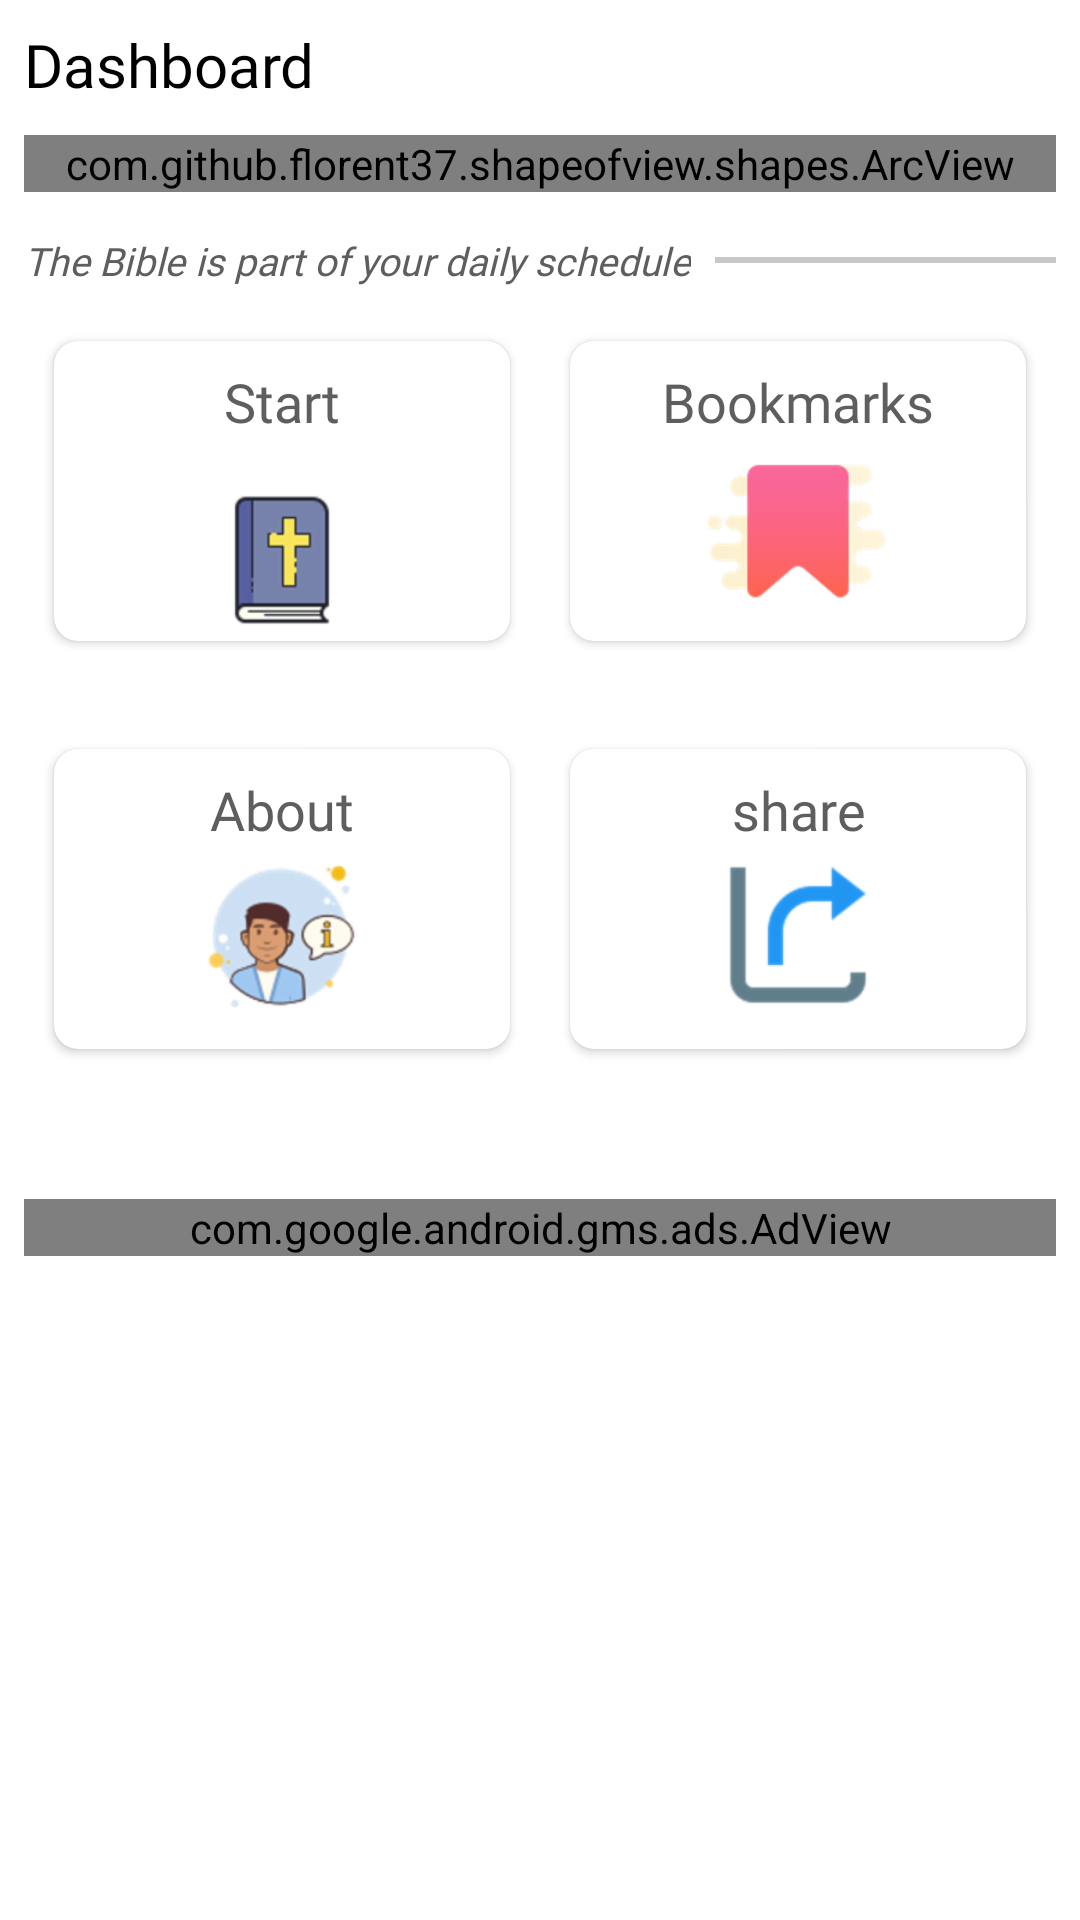

Point at icon controls on the screen. Image size 1080px×1920px, points as [x,y].
bible: [282,560]
